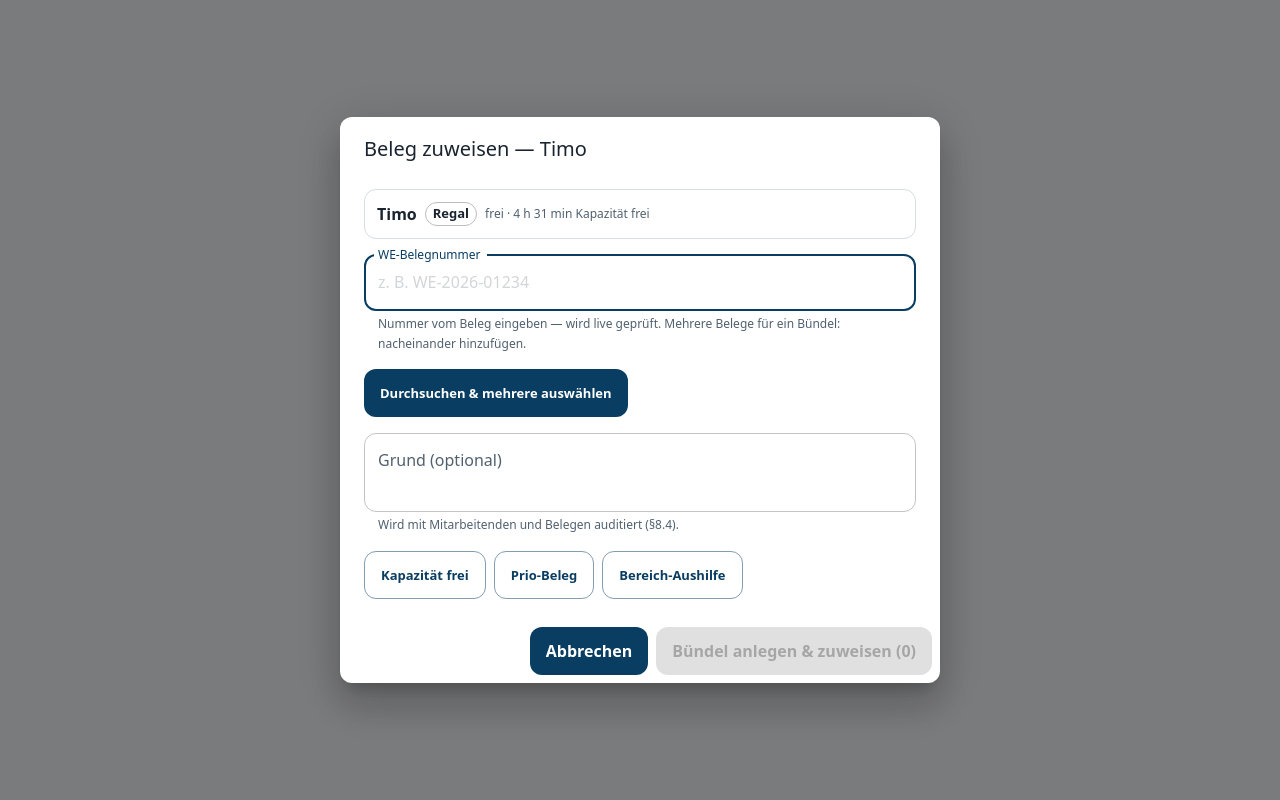
Test case: AssignDialog › shows ranked live-search results below the field and adds one on click
Type "WE-90" into the field labelled "WE-Belegnummer". click: (640, 283)
box: 364,255 -> 916,311
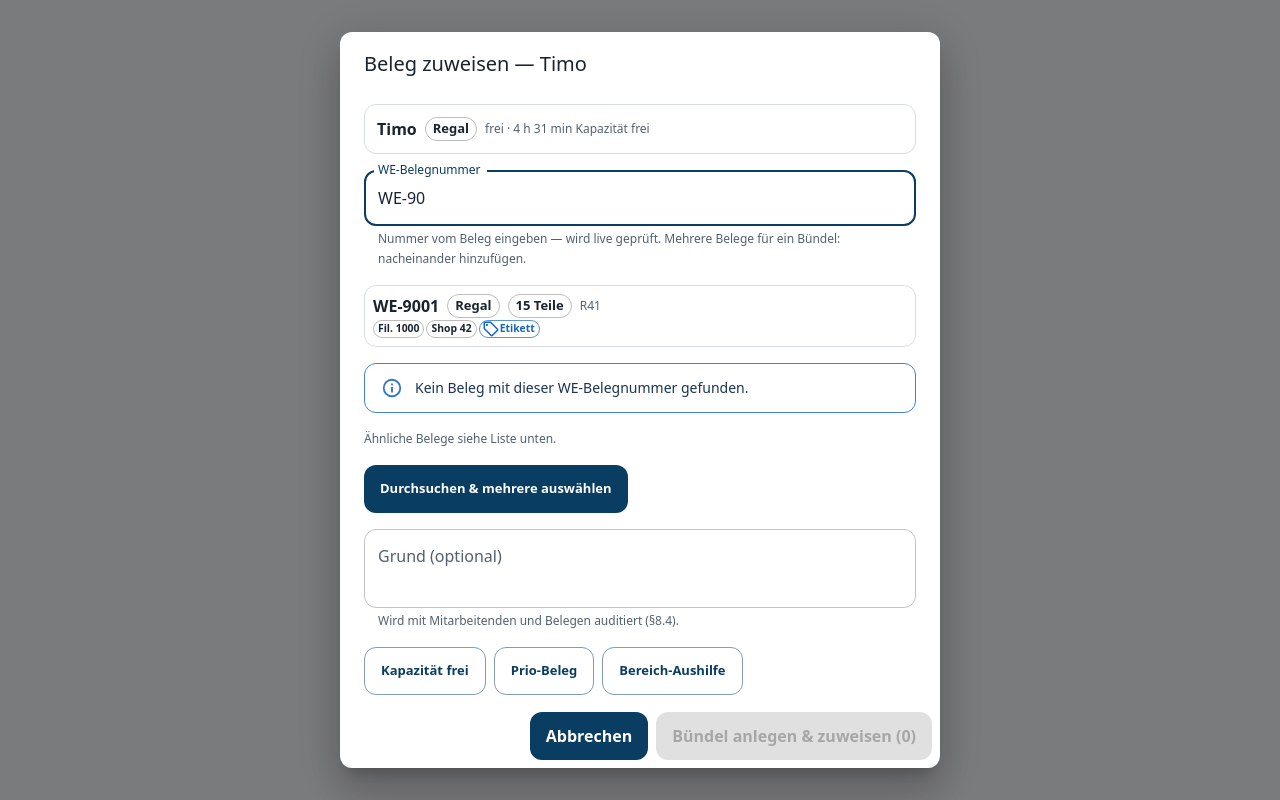
Now the text "WE-9001" is shown
Click the text "WE-9001". click: (406, 306)
box: 373,294 -> 439,318
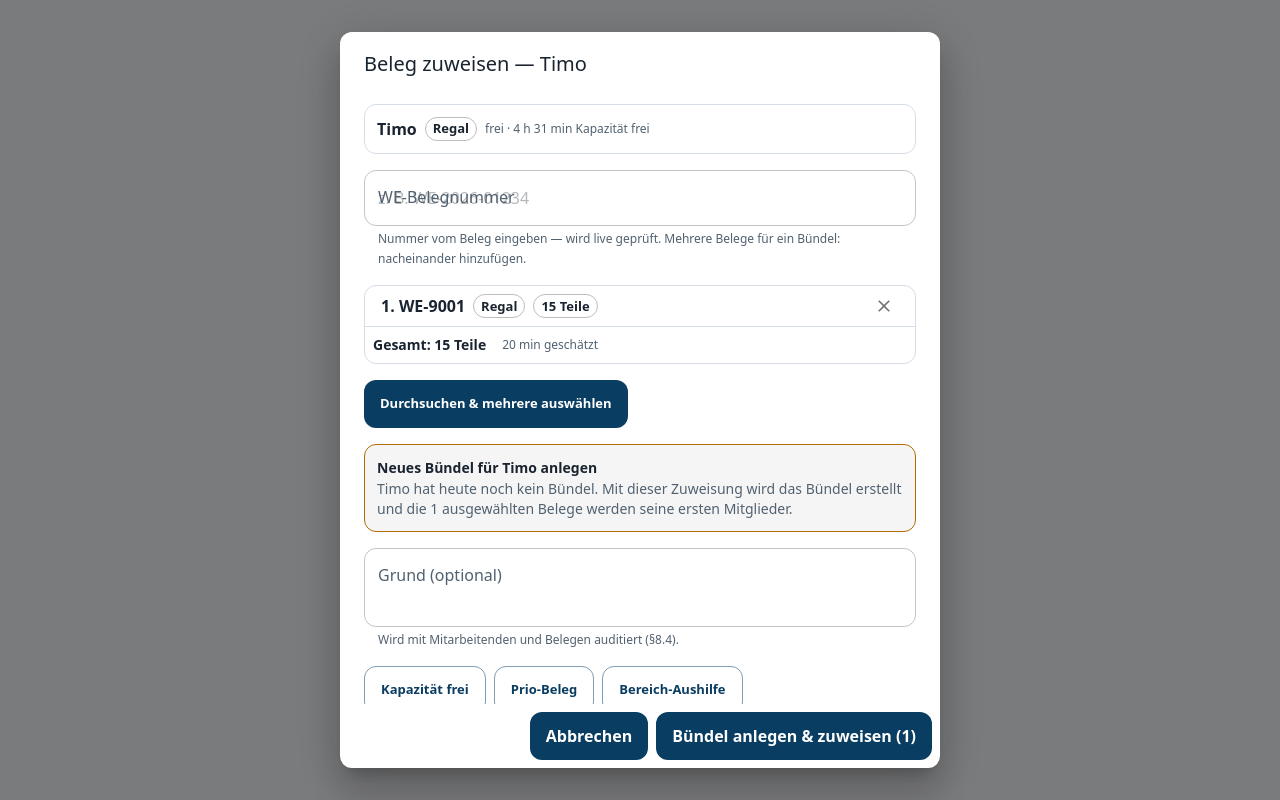
Now the text "1. WE-9001" is shown, box 381,294 -> 465,318
Now the button "Bündel anlegen & zuweisen (1)" is shown, box 656,712 -> 932,760
